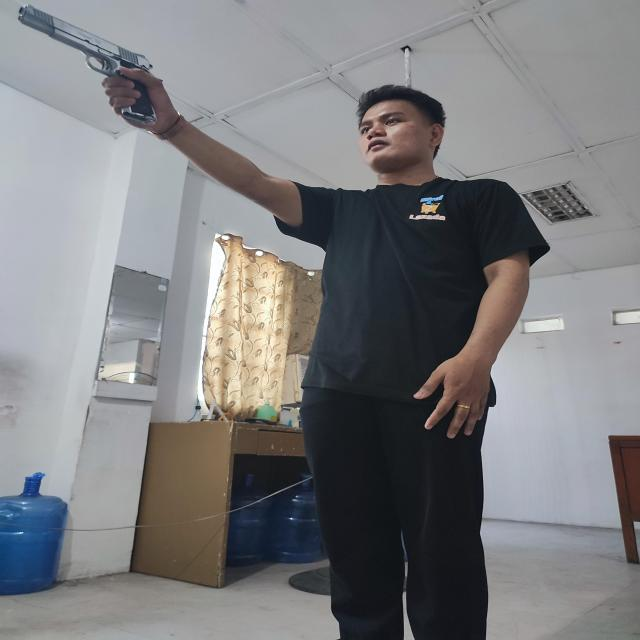pistol: (18, 5, 157, 125)
